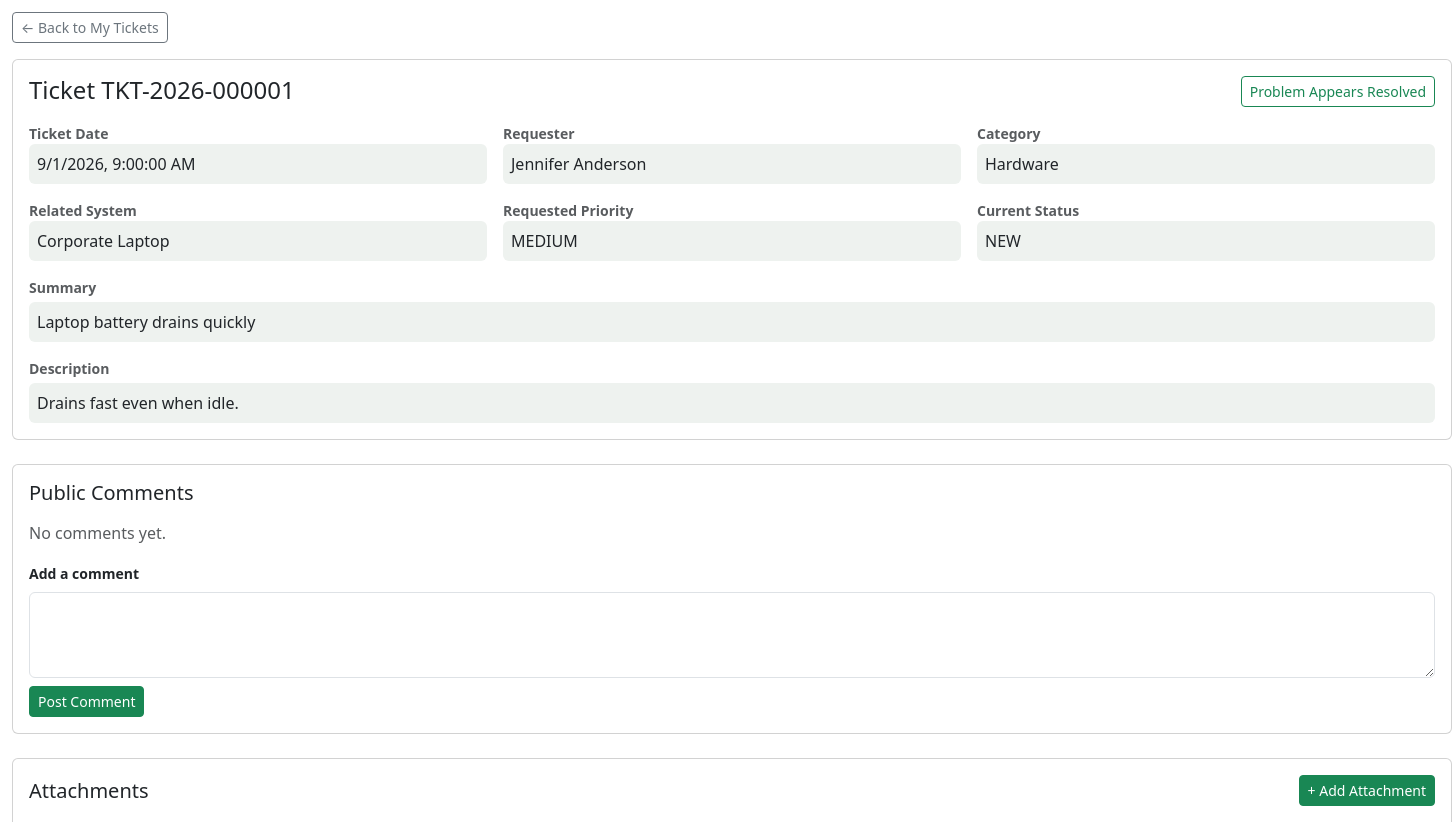
TicketDetail › marks the problem as appearing resolved
The width and height of the screenshot is (1452, 822).
Expected: the heading "Ticket TKT-2026-000001" is shown, x1=29 y1=76 x2=295 y2=105
Click the button "Problem Appears Resolved".
click(1338, 92)  # box x1=1241 y1=76 x2=1435 y2=107
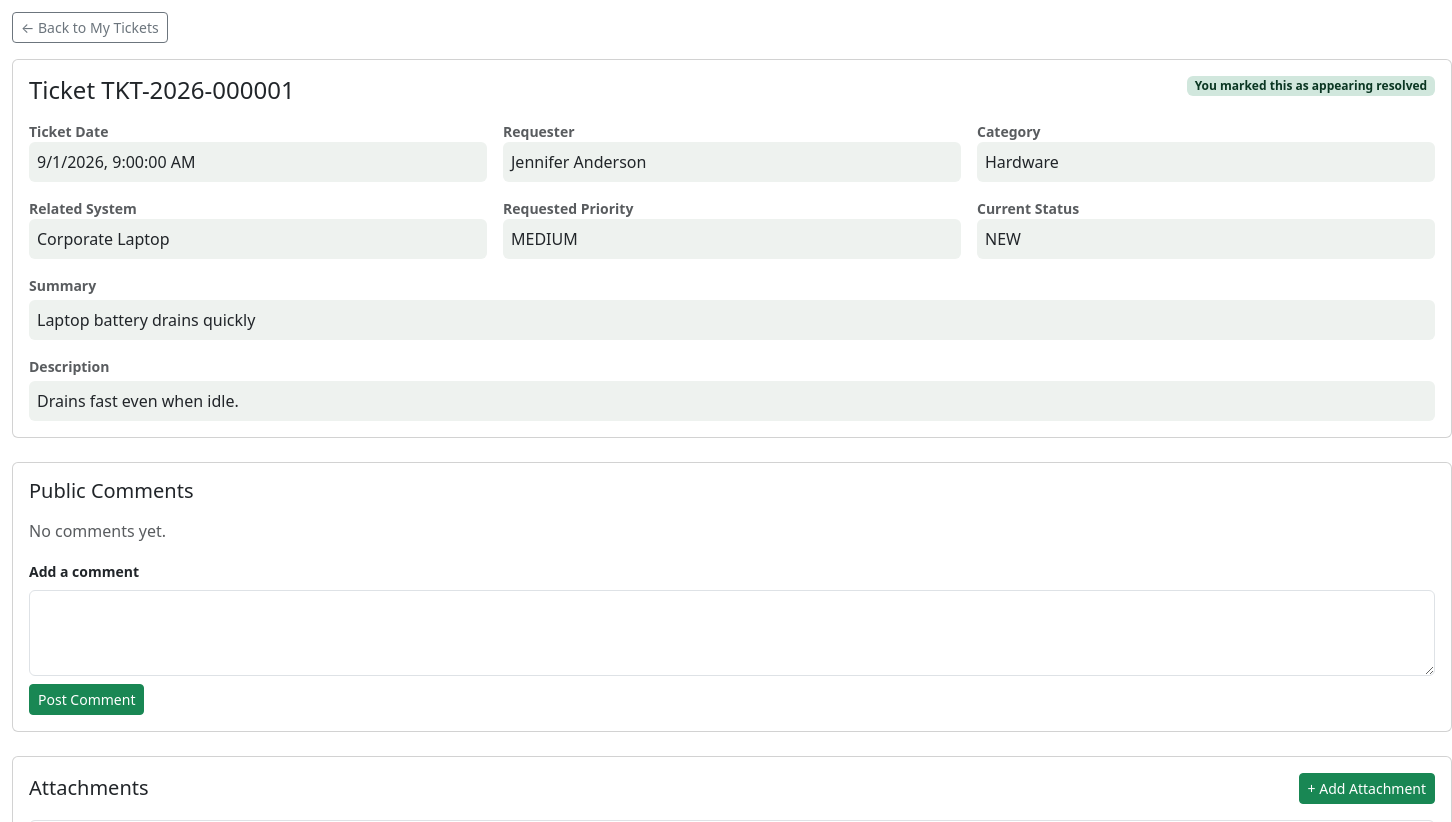
Result: the text "You marked this as appearing resolved" is shown at x1=1187 y1=76 x2=1435 y2=96
